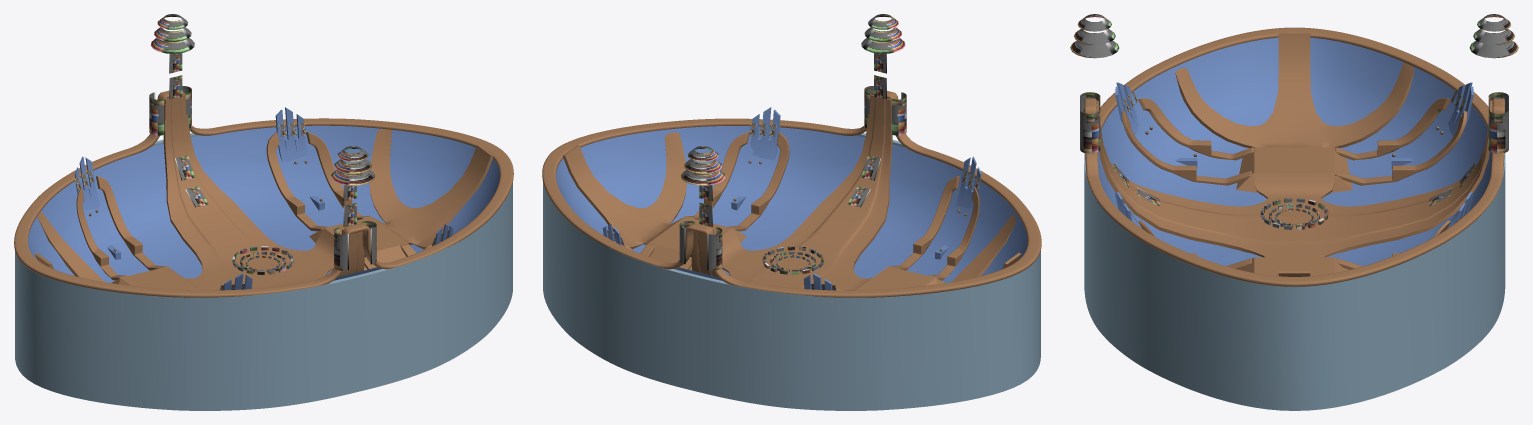
The model's file is Skateboard_v01.fbx.
3 renders of one model, left to right at view 1: azimuth 30°, elevation 25°; view 2: azimuth 150°, elevation 25°; view 3: azimuth 270°, elevation 25°, orthographic. The views are drawn at different scales.
Parts seen in each view (by area): view 1: Scateboard, Ground_Center, Rings, Arrow, Plane005, Line_Lights, Lights_1; view 2: Scateboard, Ground_Center, Rings, Arrow, Plane005, Line_Lights, Lights_1; view 3: Scateboard, Ground_Center, Rings, Arrow, Plane005, Lights_1.
Boxes of the visible parts, bbox=[...] form: Scateboard: bbox=[14, 90, 513, 297]; Ground_Center: bbox=[15, 133, 512, 410]; Rings: bbox=[150, 14, 374, 185]; Arrow: bbox=[149, 86, 376, 270]; Plane005: bbox=[169, 53, 356, 226]; Line_Lights: bbox=[75, 122, 448, 290]; Lights_1: bbox=[232, 246, 293, 274]; Scateboard: bbox=[542, 91, 1041, 297]; Ground_Center: bbox=[543, 133, 1040, 410]; Rings: bbox=[681, 14, 905, 185]; Arrow: bbox=[679, 86, 906, 270]; Plane005: bbox=[699, 53, 886, 226]; Line_Lights: bbox=[607, 122, 980, 290]; Lights_1: bbox=[762, 246, 823, 274]; Scateboard: bbox=[1084, 27, 1504, 286]; Ground_Center: bbox=[1084, 153, 1505, 410]; Rings: bbox=[1070, 14, 1518, 58]; Arrow: bbox=[1080, 92, 1508, 153]; Plane005: bbox=[1114, 162, 1474, 206]; Lights_1: bbox=[1260, 198, 1328, 229].
Size of the model in its own units: 10874 by 5242 by 8042.
Materials: 1 (1 with a texture image).
